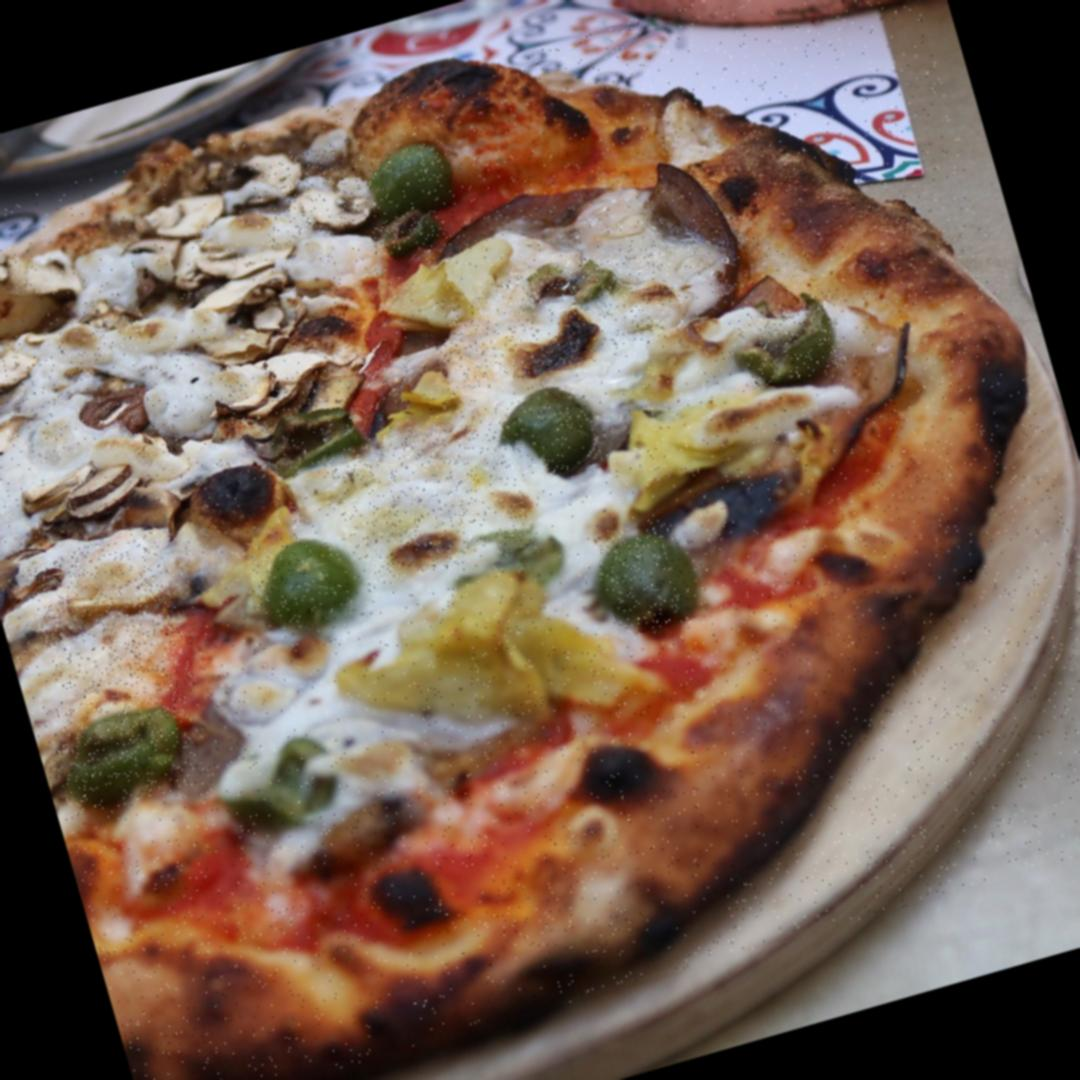Cheese: (423, 235, 690, 398), (321, 406, 535, 592), (244, 626, 439, 822), (22, 526, 197, 720), (0, 304, 180, 479)
Mushroom: (24, 440, 161, 553), (247, 138, 381, 252), (206, 266, 332, 376), (131, 190, 220, 298), (218, 362, 336, 427), (65, 373, 161, 450), (0, 259, 66, 351)
Olives: (40, 670, 208, 820), (243, 382, 378, 488), (592, 516, 698, 638), (734, 290, 852, 390), (248, 538, 356, 638), (500, 383, 603, 484), (355, 133, 456, 226), (366, 197, 454, 265)
Pizza: (0, 0, 1080, 1080)
